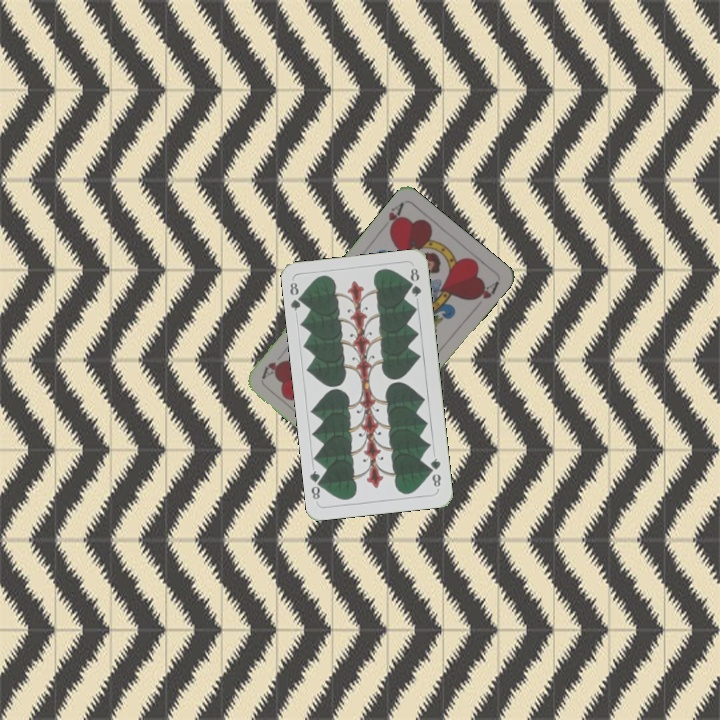G8: (286, 278, 307, 313), (426, 454, 444, 492)
HA: (384, 198, 407, 236)
